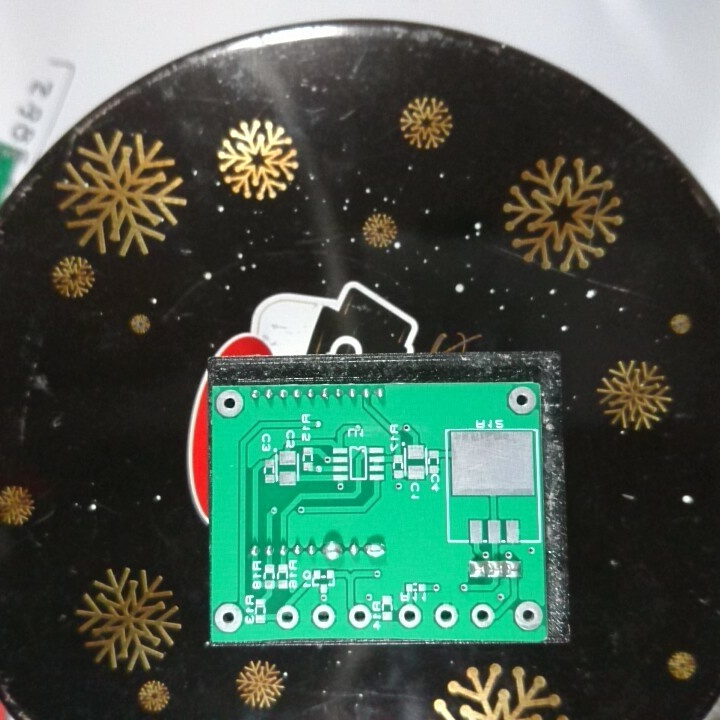F: (512, 599, 545, 632), (214, 387, 245, 421), (506, 384, 537, 417), (212, 603, 243, 635), (310, 600, 337, 633), (432, 600, 459, 629), (397, 601, 422, 632), (273, 603, 300, 630), (347, 603, 373, 631), (470, 602, 496, 630)
P: (320, 539, 344, 562), (362, 540, 388, 560)
